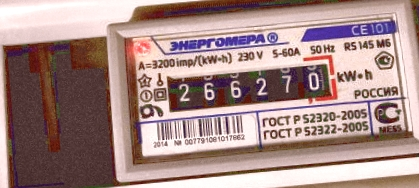0: (306, 70, 320, 91)
2: (175, 82, 192, 103), (253, 76, 268, 97)
6: (201, 80, 216, 102), (228, 79, 243, 100)
7: (279, 74, 292, 94)
screen: (156, 52, 343, 120)
